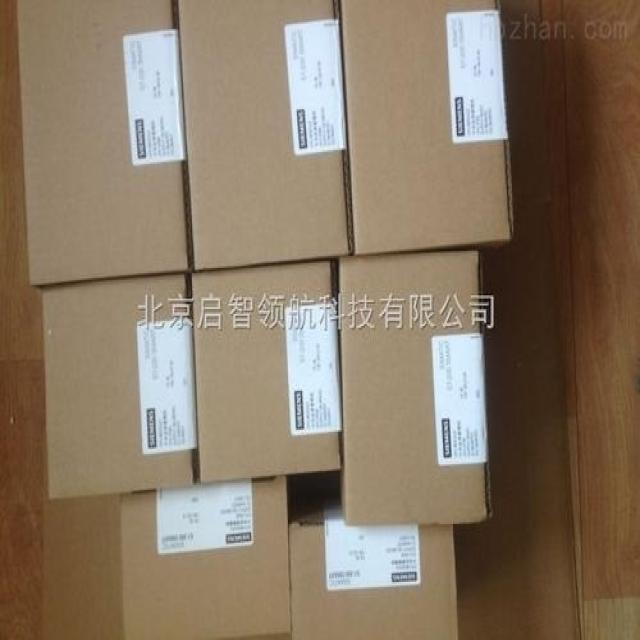box: (17, 0, 192, 288), (178, 0, 353, 271), (338, 0, 513, 258), (339, 251, 492, 524), (42, 271, 200, 500), (192, 259, 342, 485), (122, 476, 291, 640), (288, 492, 460, 640)
